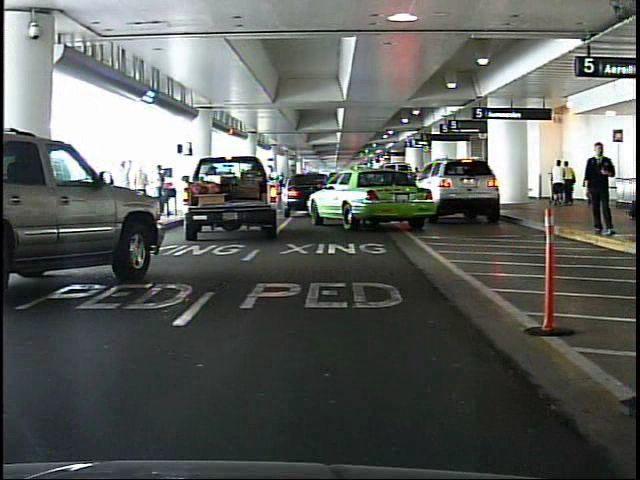person: (587, 138, 623, 243), (155, 160, 175, 210), (551, 158, 566, 206), (563, 158, 577, 209)
